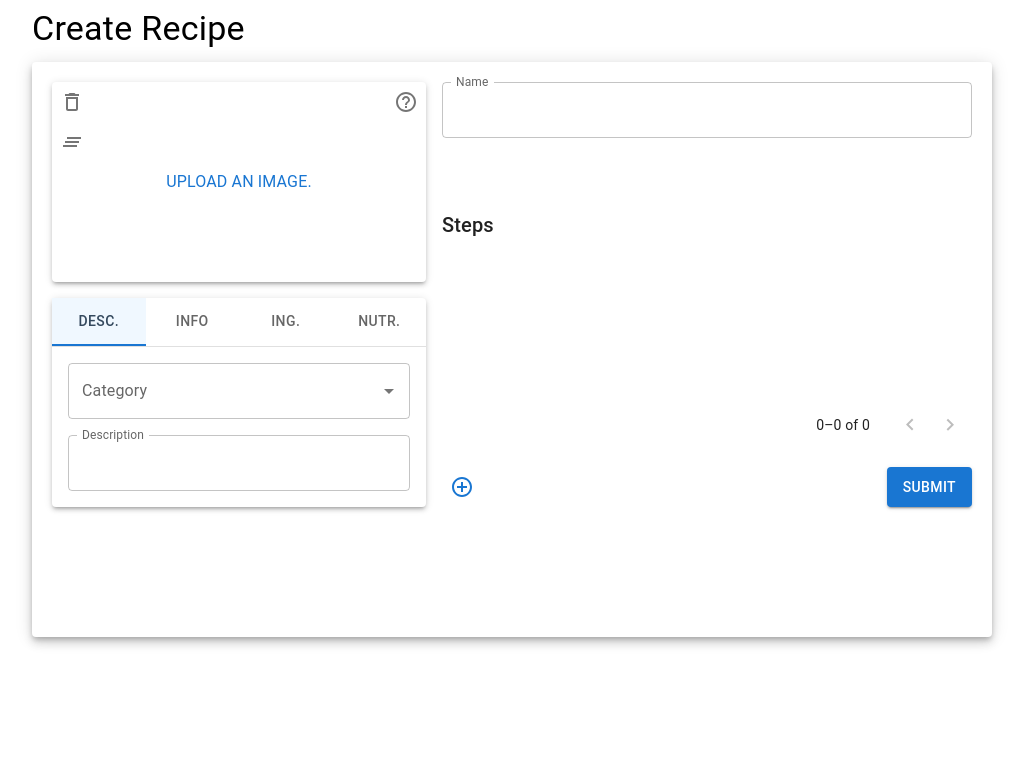
Test: Make sure images display and work › Test help tooltip shows
Note: Tooltip displays text on hover
Hover over the button named "Click Image to Choose New Image".
mouse_move(406, 102)  # box [386,82,426,122]
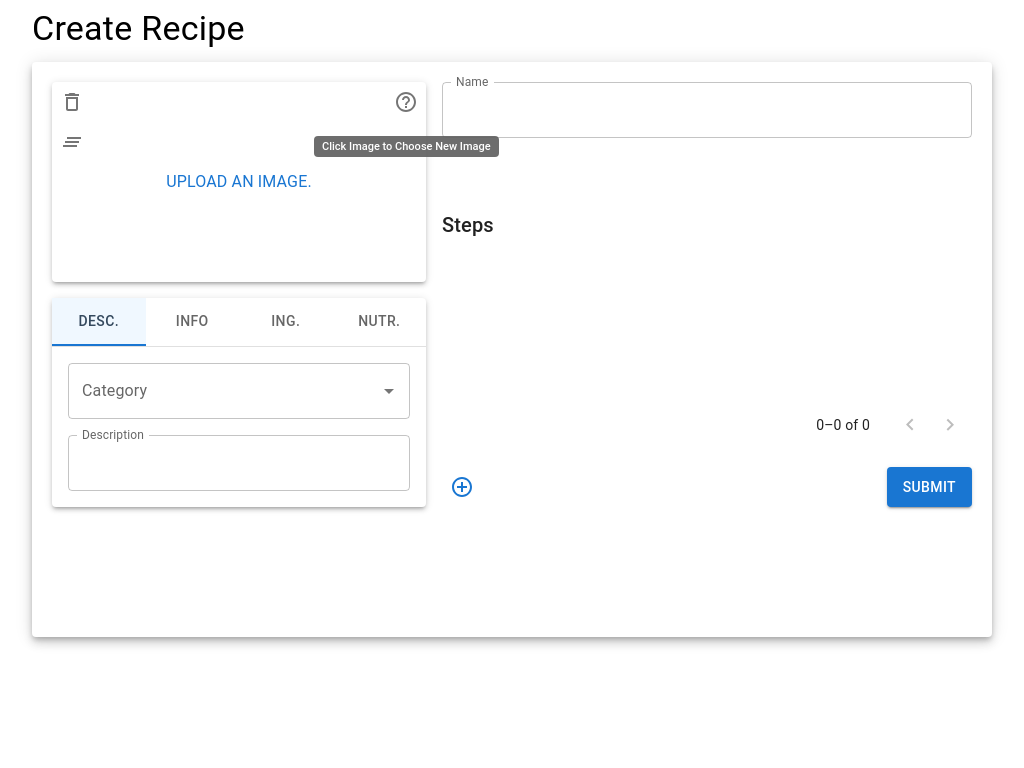
Result: the tooltip "Click Image to Choose New Image" is shown at [314,136,499,157]
